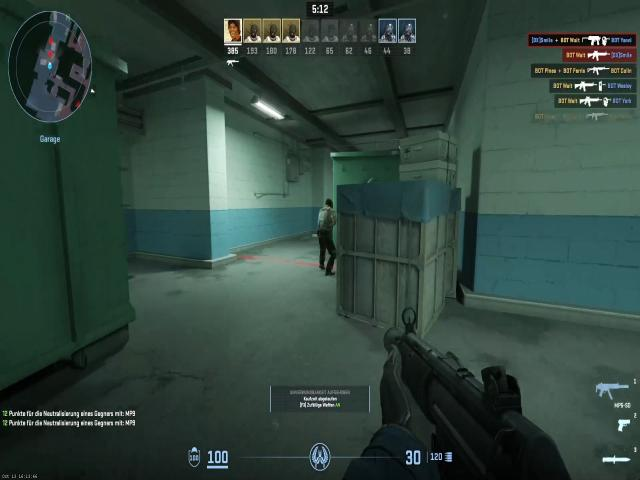T: (314, 198, 334, 243)
T-Head: (322, 191, 334, 215)
